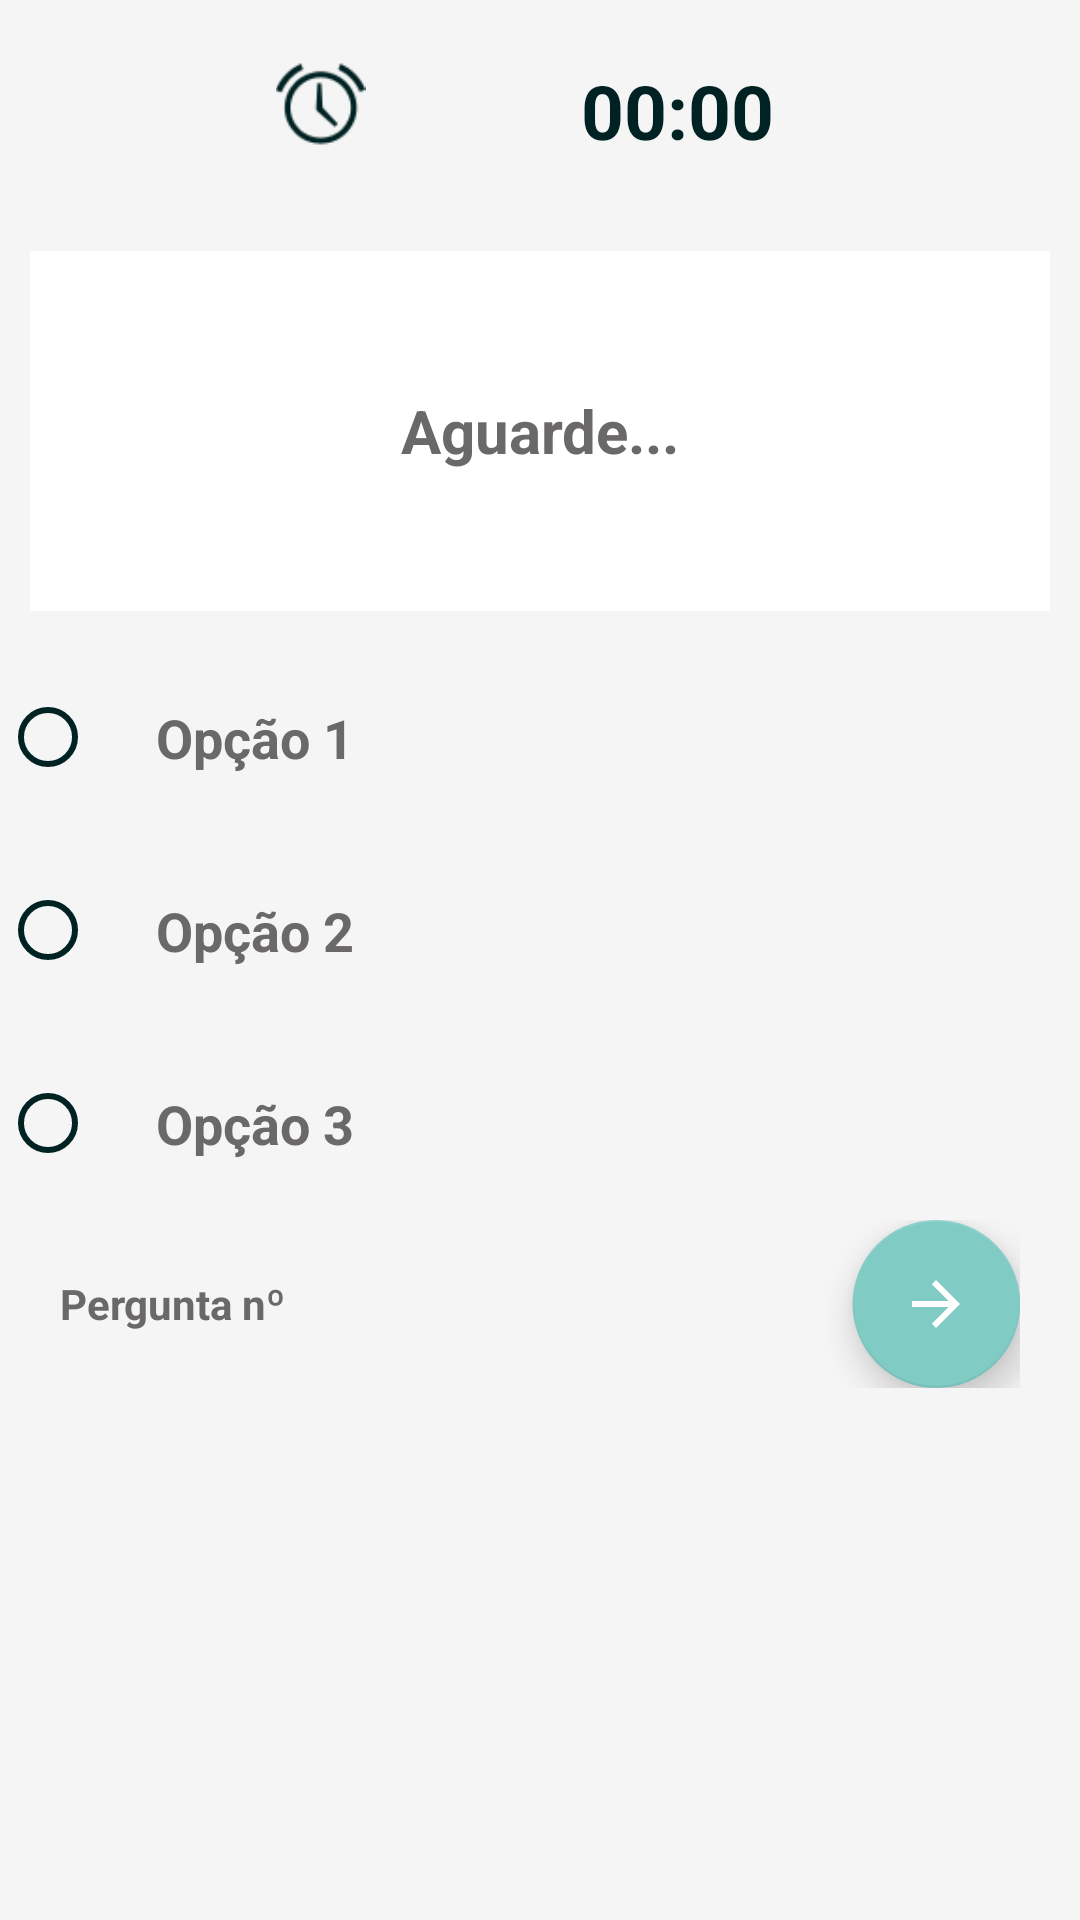

Icons on this 1080x1920 Android screen, each with its box as {"left": x1, "top": y1, "right": x2, "bottom": y2}:
lock idle alarm: {"left": 276, "top": 63, "right": 366, "bottom": 145}
